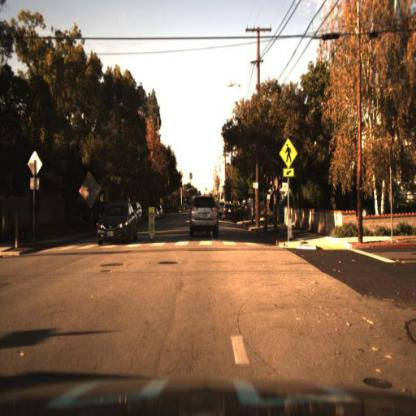car: (92, 197, 140, 247), (94, 201, 138, 246), (187, 192, 221, 240), (219, 203, 239, 224), (136, 196, 146, 226)
